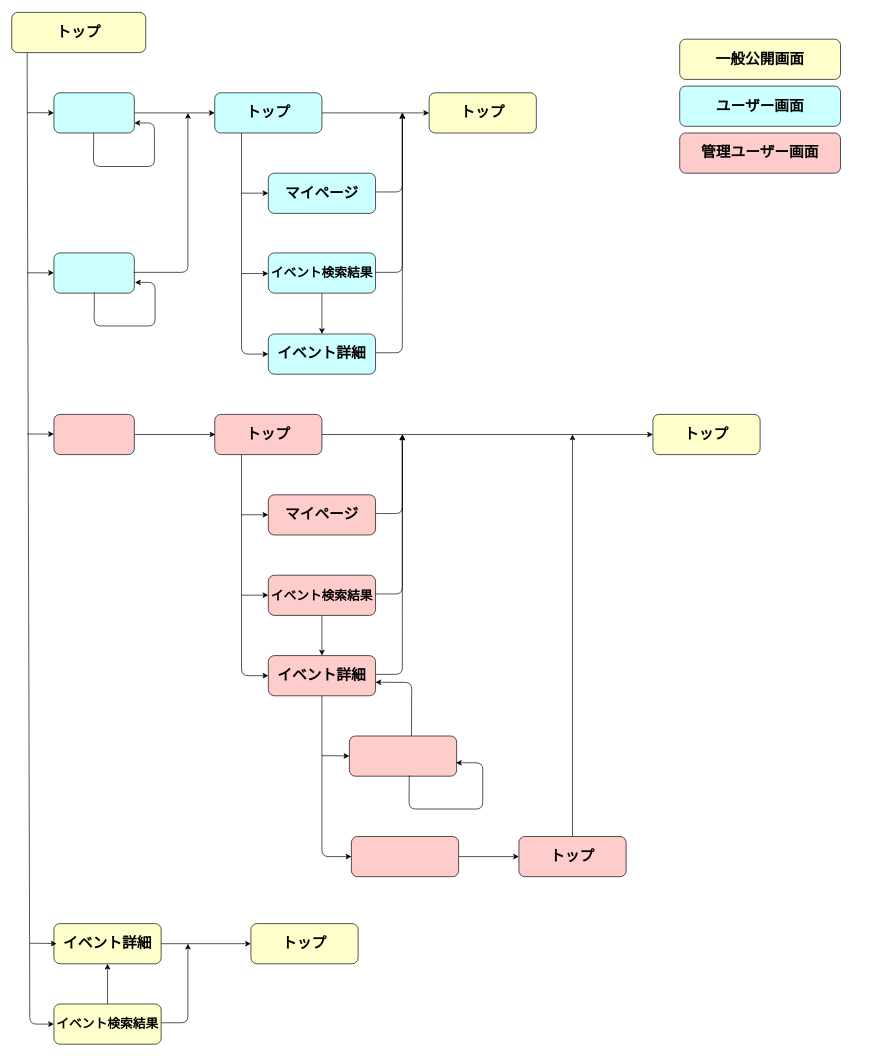
This 880x1056 diagram has some shape labels left out. Here are the shapes that lost their labels. From the top down, the centre of each, then its label:
point 93,112: ログイン （一般ユーザー）
point 93,272: 会員登録
point 93,434: ログイン （管理ユーザー）
point 403,755: イベント編集
point 405,856: イベント削除
